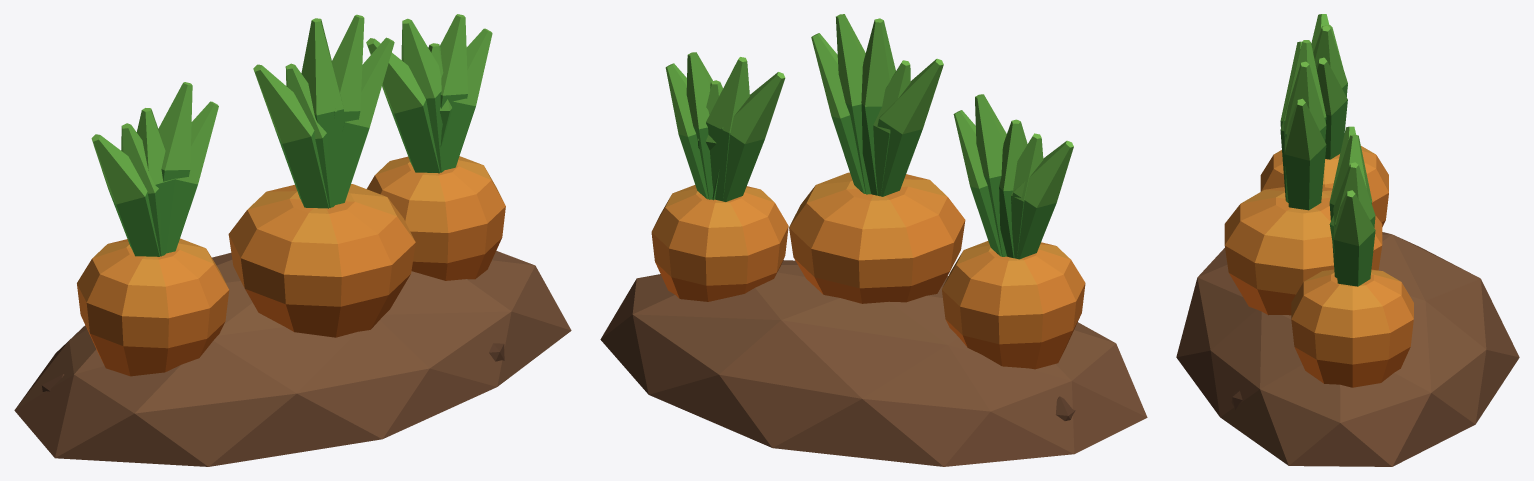
File: habitat_prop_lop.fbx
3 views of the same model, side by side, from view 1: azimuth 30°, elevation 25°; view 2: azimuth 150°, elevation 25°; view 3: azimuth 270°, elevation 25° (orthographic). The views are drawn at different scales.
Visible parts, largest first — view 1: habitat_prop_lop; view 2: habitat_prop_lop; view 3: habitat_prop_lop.
Boxes of the visible parts, box(x1,y1,x2,y2) form: habitat_prop_lop: box(14, 14, 571, 466); habitat_prop_lop: box(600, 14, 1147, 466); habitat_prop_lop: box(1176, 14, 1519, 466).
Size of the model in its own units: 1.72 by 1.17 by 1.12.
